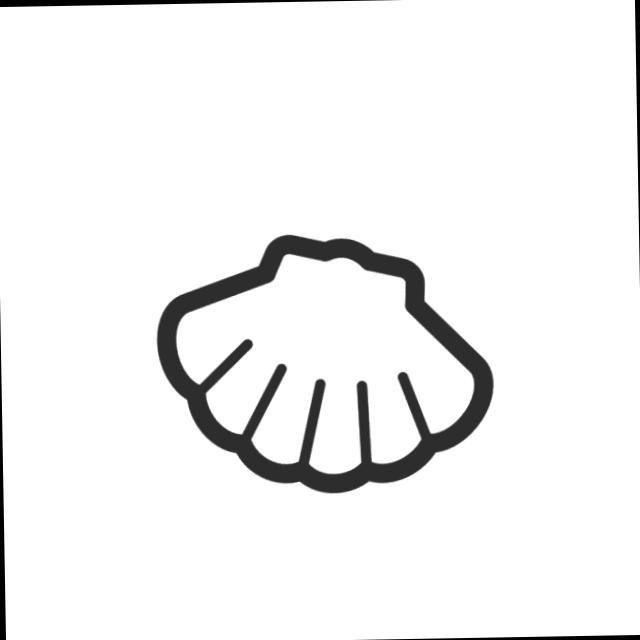shell: (149, 226, 506, 504)
